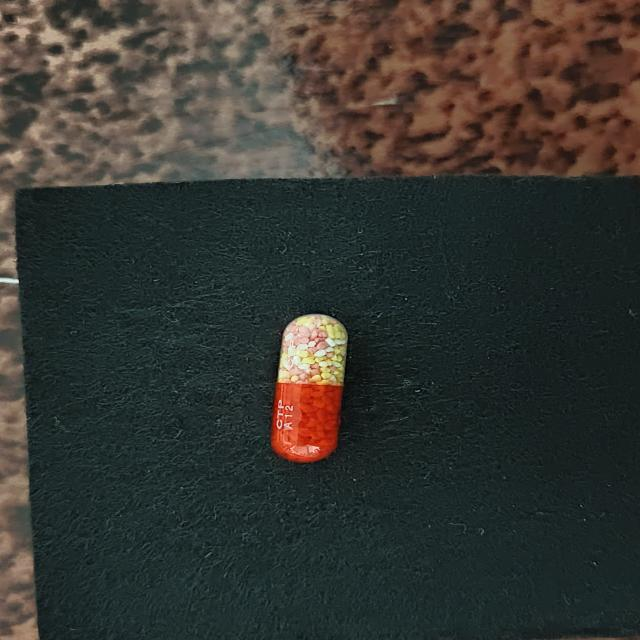Intact Capsule: (271, 314, 348, 462)
